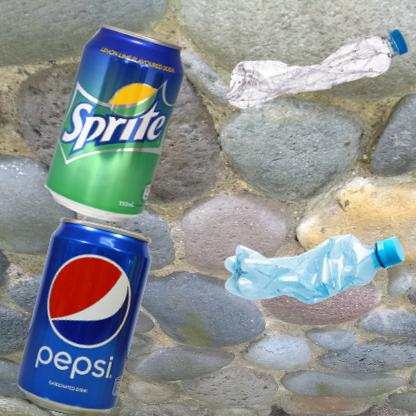botella: (213, 10, 416, 135), (213, 213, 416, 331)
lata: (10, 10, 234, 256), (10, 213, 174, 416)
